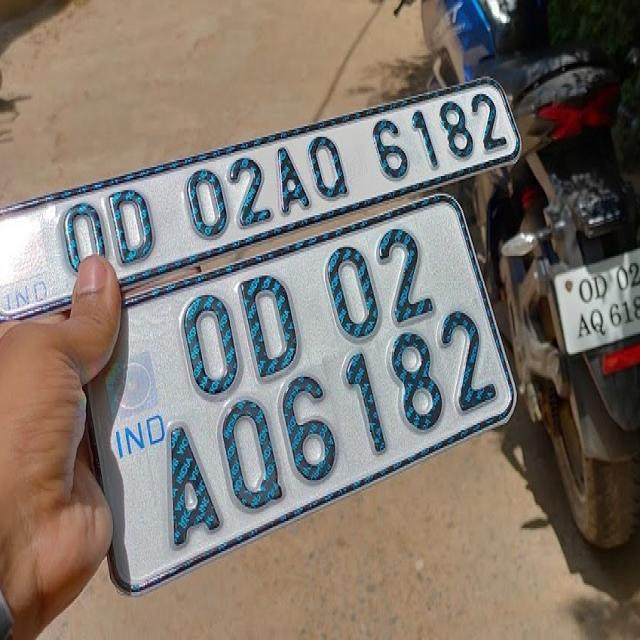License_Plate: (82, 208, 517, 596), (0, 77, 521, 309)
